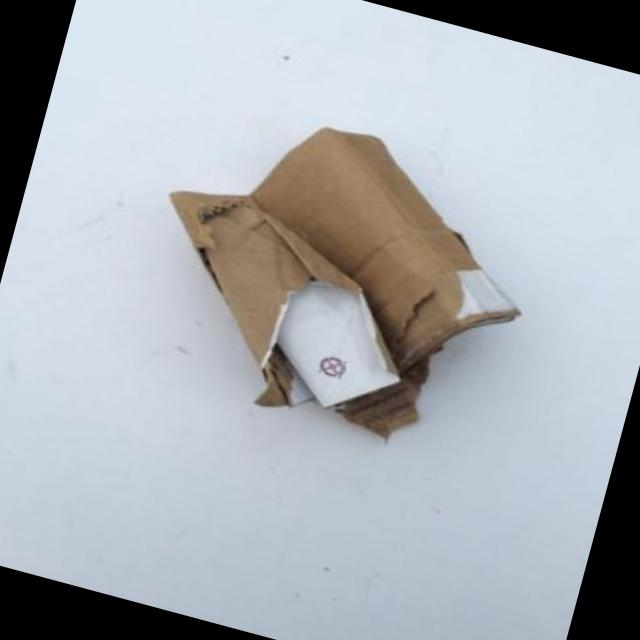cardboard paper: (169, 127, 516, 434)
